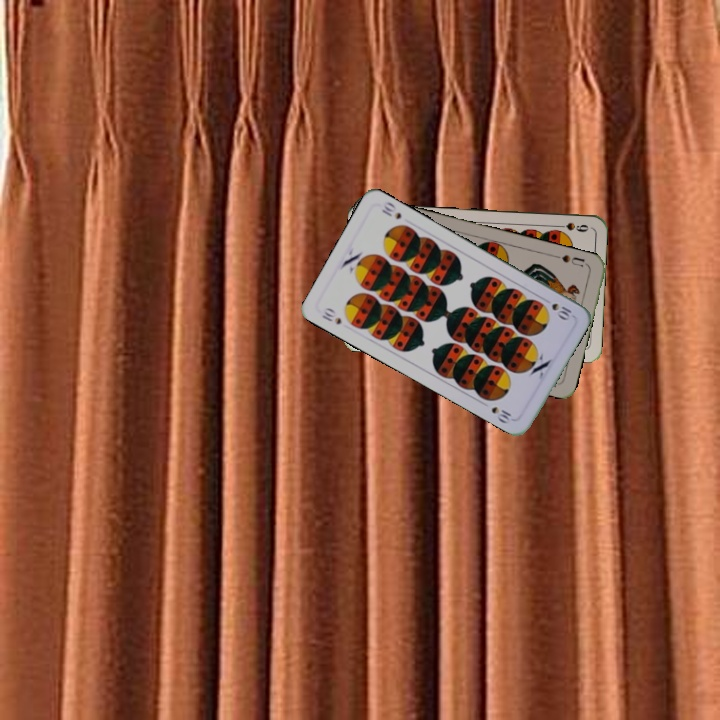S10: (317, 303, 344, 327), (547, 299, 574, 322)
S9: (551, 218, 591, 235)
SU: (551, 251, 587, 269)
